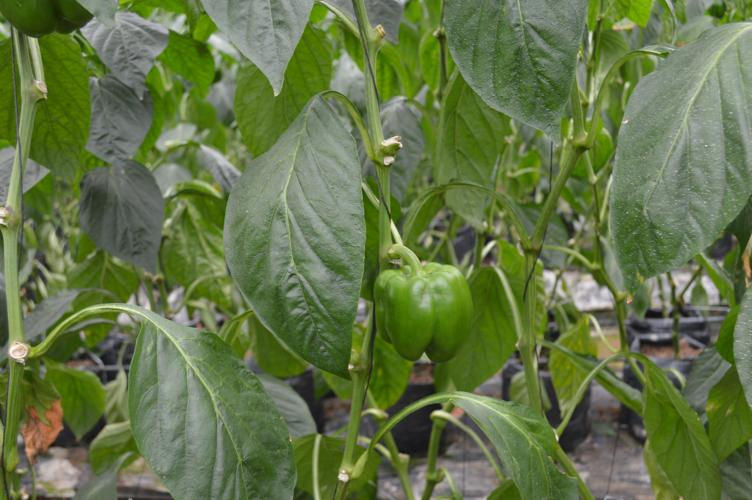BellPepper: (377, 262, 483, 368)
